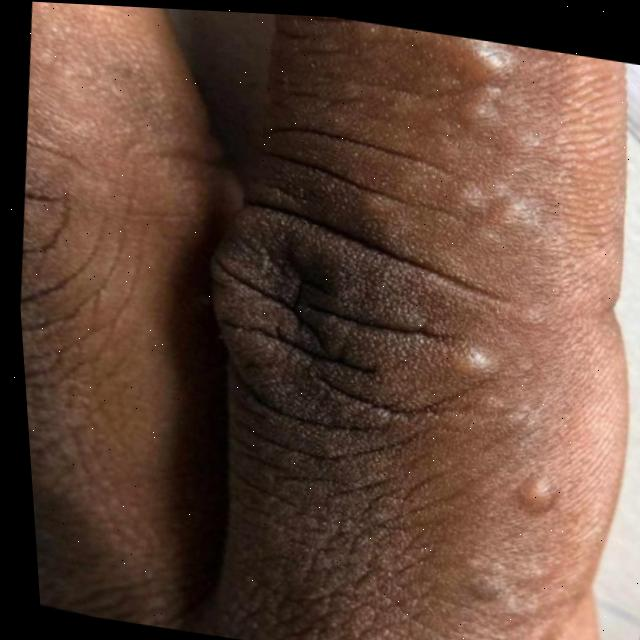Eczema: (391, 32, 640, 640)
